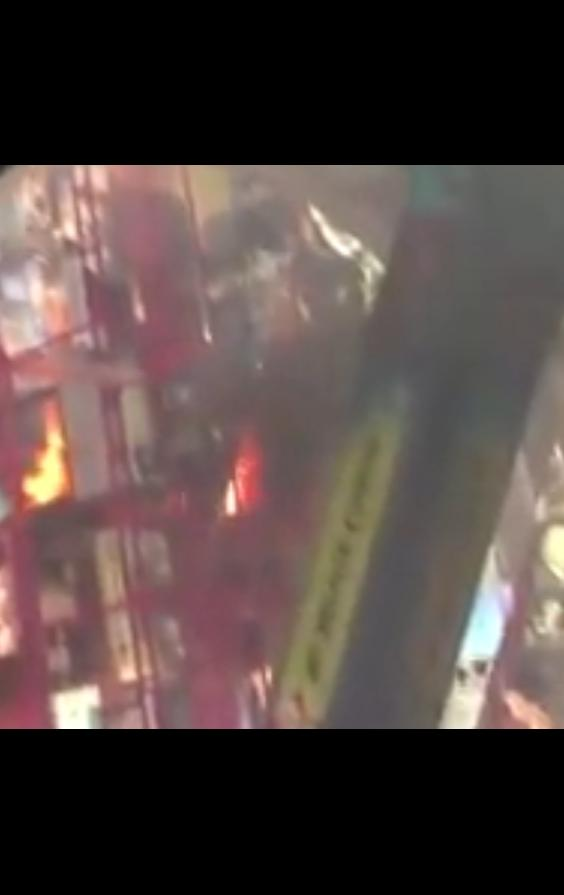fire: (0, 391, 99, 532)
smoke: (143, 195, 564, 488)
